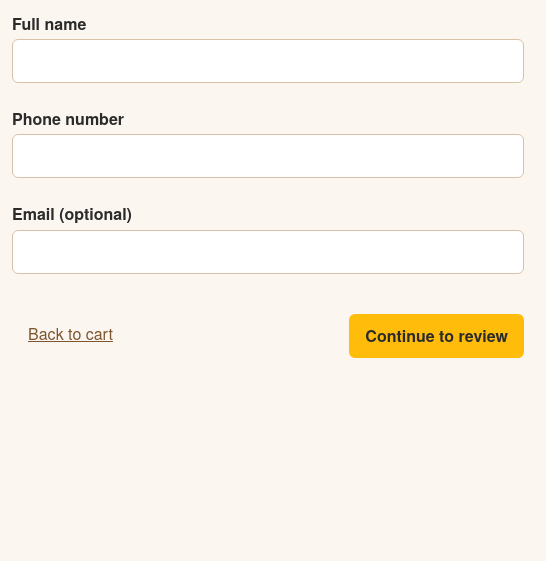
it: CheckoutFlow — non-empty cart (AC1) › blocks placing the order while a line is unavailable (Phase 11 AC8)
The image size is (546, 561).
Type "Ada Lovelace" into the field labelled "Full name" at point(268, 61), box [12, 39, 524, 83]
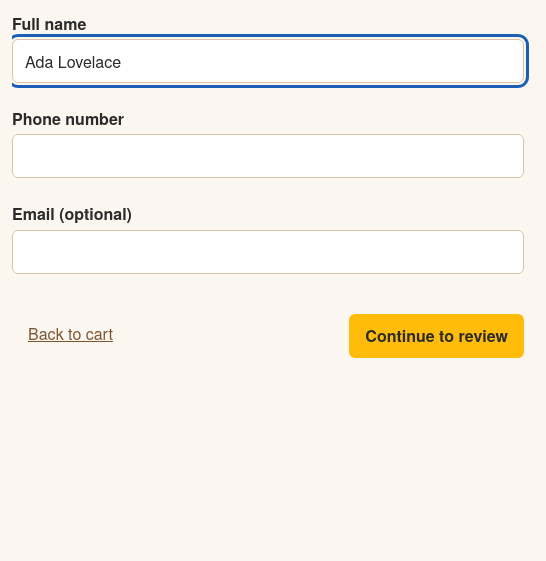
Type "5551234567" into the field labelled "Phone number" at point(268, 156), box [12, 134, 524, 178]
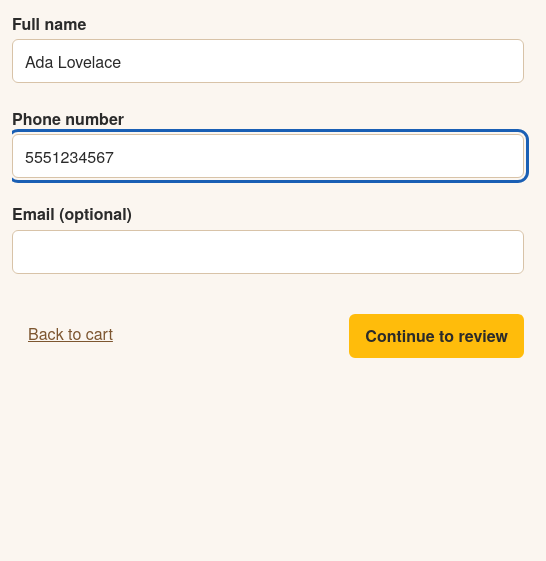
Click the button "Continue to review" at point(437, 336), box [349, 314, 524, 358]
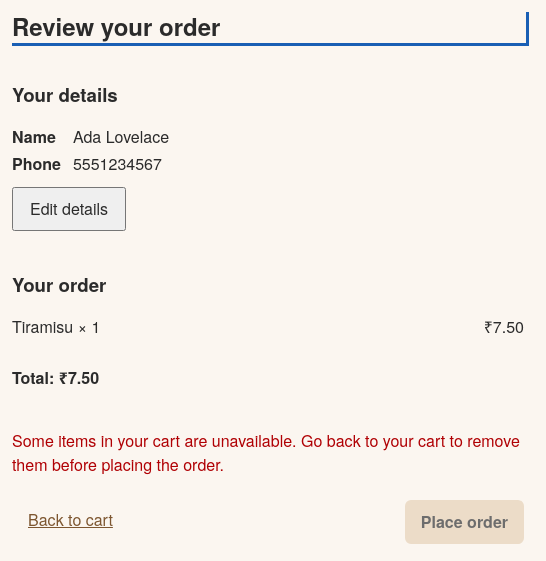
Result: the button "Place order" is disabled at [405, 500, 524, 544]
